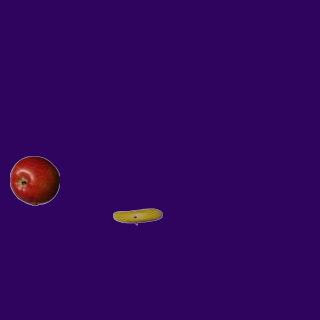Apple Braeburn: (9, 155, 59, 205)
Banana: (112, 191, 162, 241)
